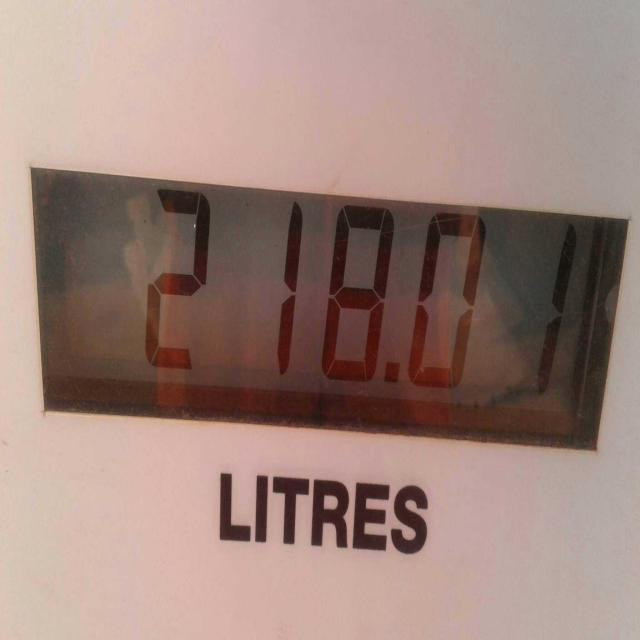.: (391, 356, 405, 393)
0: (409, 214, 487, 401), (538, 220, 574, 401)
1: (274, 196, 305, 378)
2: (148, 188, 211, 375)
8: (321, 207, 388, 383)
